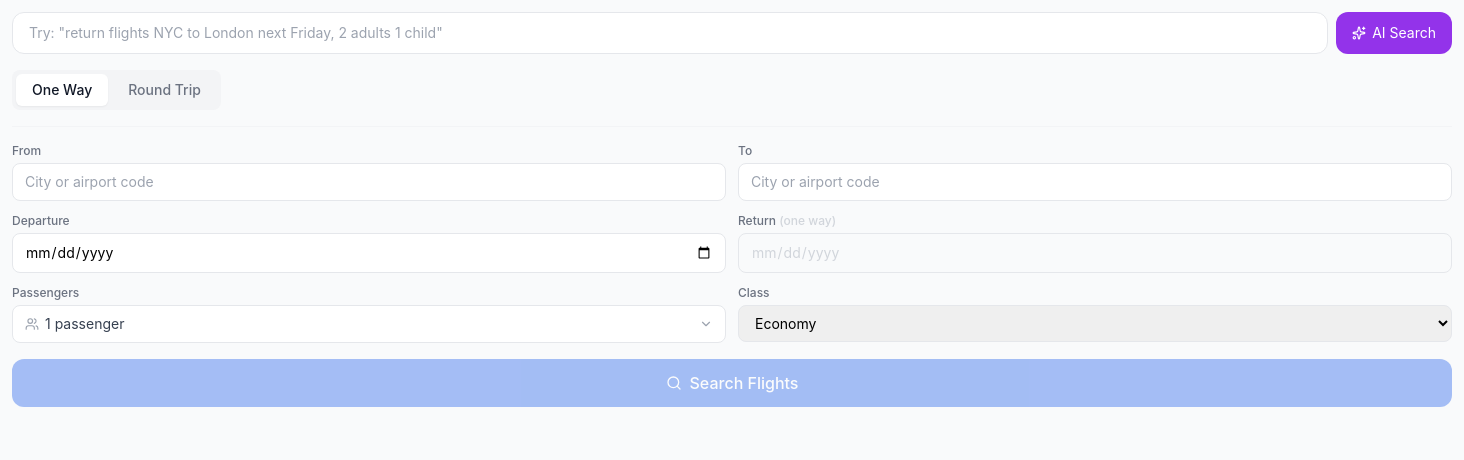
Test case: SearchForm — NL search › shows error when AI search returns non-ok response
Replace the text in the field with placeholder "Try:" with "bad query": [670, 33] box [12,12,1328,54]
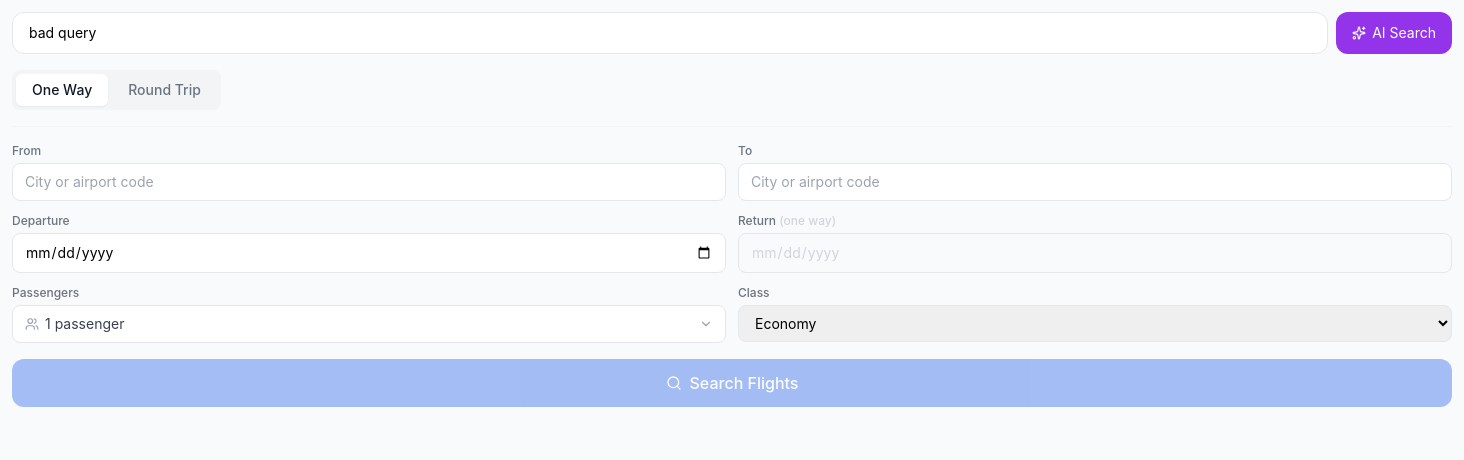
Click the button "AI Search": [1394, 33] box [1336,12,1452,54]
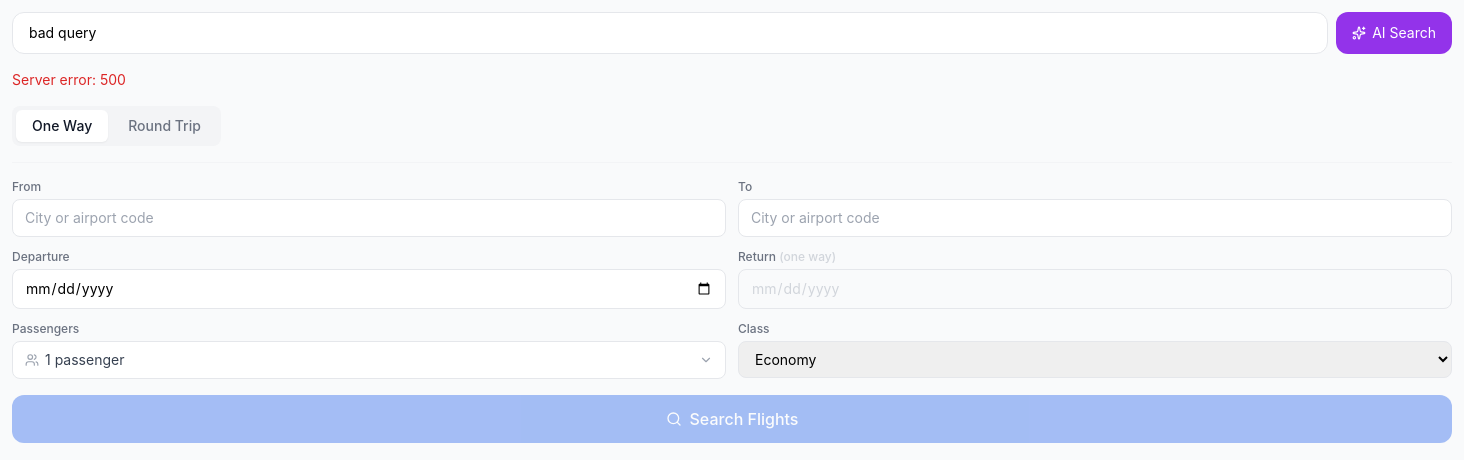
Expected: the text "Server error: 500" is shown, [12,71,126,88]
